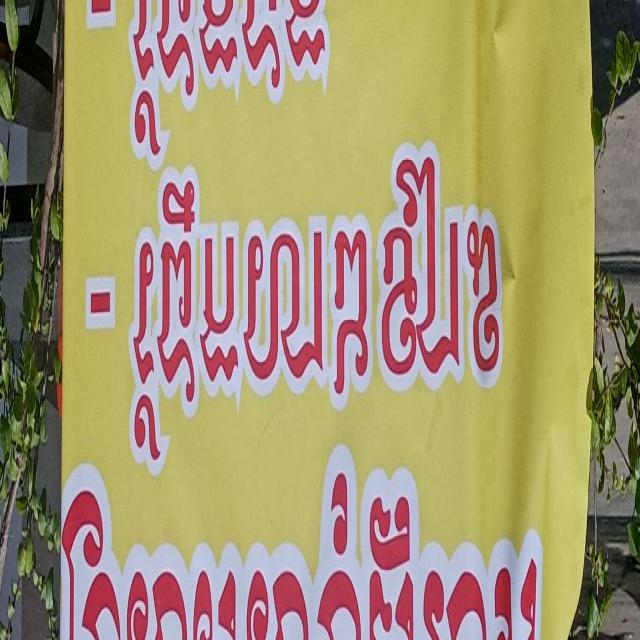Yolov11_80vkh: (122, 82, 514, 471)
